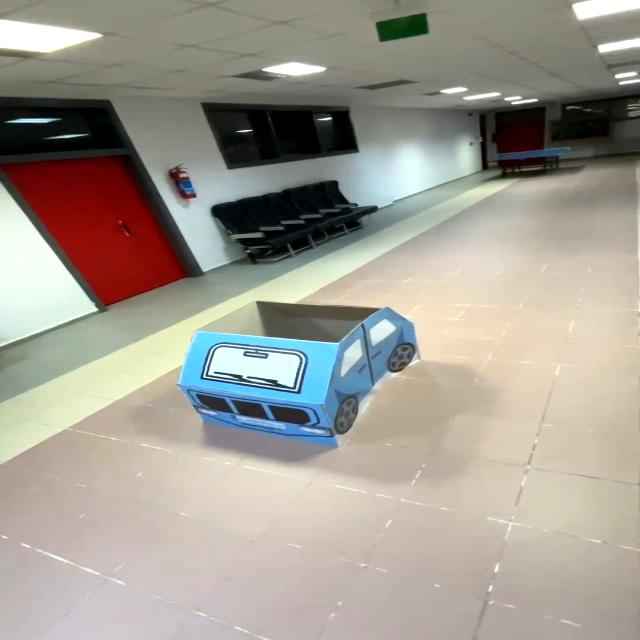blue_car: (148, 281, 445, 456)
